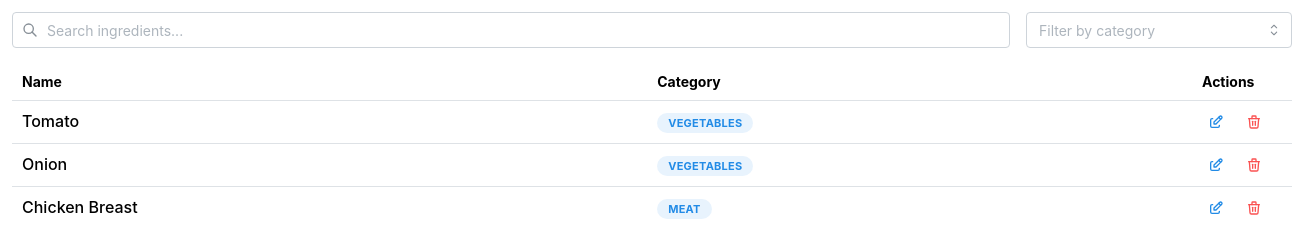
Test case: IngredientList › Search and Filter › should show message when no results found
Type "xyz123" into the field with placeholder "Search ingredients...". click: point(511, 30)
box: top-left (12, 12), bottom-right (1010, 48)
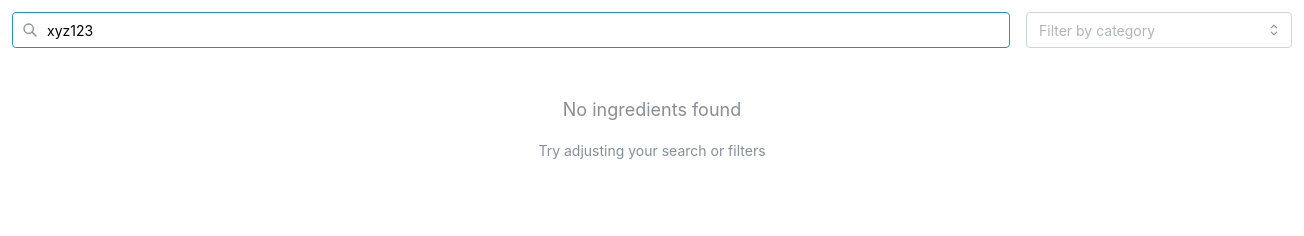
expect the text "No ingredients found" is shown: met, box top-left (563, 96), bottom-right (741, 125)
expect the row "Name Category Actions" is gone: met
